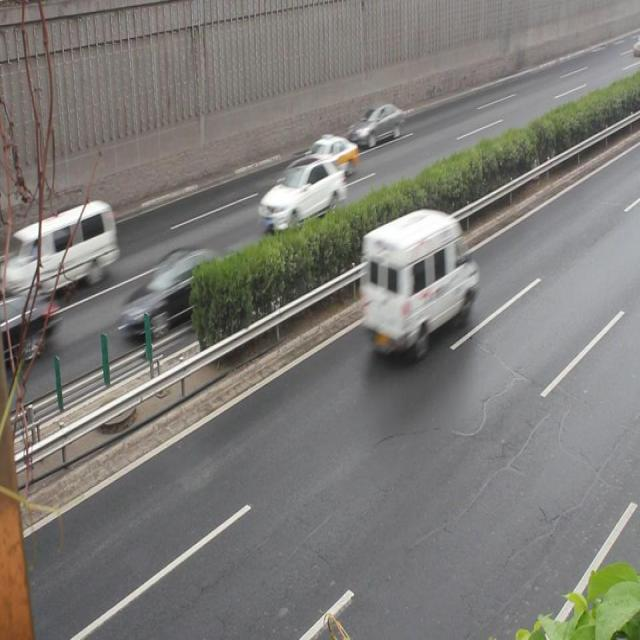car: (358, 208, 476, 354), (121, 246, 238, 336), (256, 156, 344, 230), (290, 134, 358, 182), (348, 102, 403, 148)
truck: (18, 200, 116, 297)
